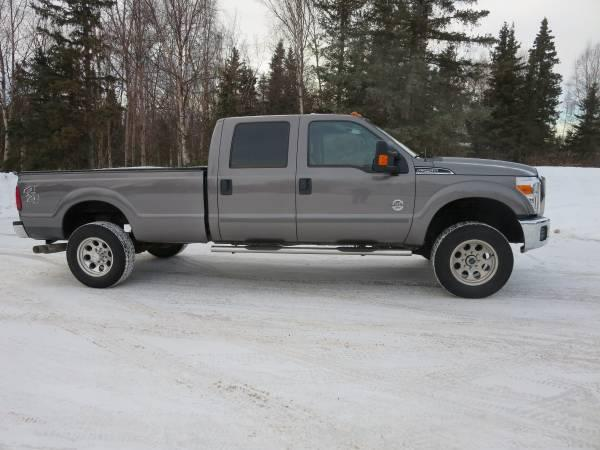Front_Bumper: (519, 215, 551, 253)
Front_Fender: (409, 173, 536, 247)
Front_Right_Door: (297, 170, 416, 247)
Front_Right_Window: (299, 115, 416, 173)
Hood: (416, 155, 537, 177)
Rear_Fender: (13, 168, 206, 247)
Rear_Right_Door: (206, 166, 297, 242)
Rear_Right_Window: (209, 115, 300, 169)
Right_Headlight: (518, 177, 545, 218)
Wheel: (432, 222, 515, 299), (65, 220, 137, 289)
